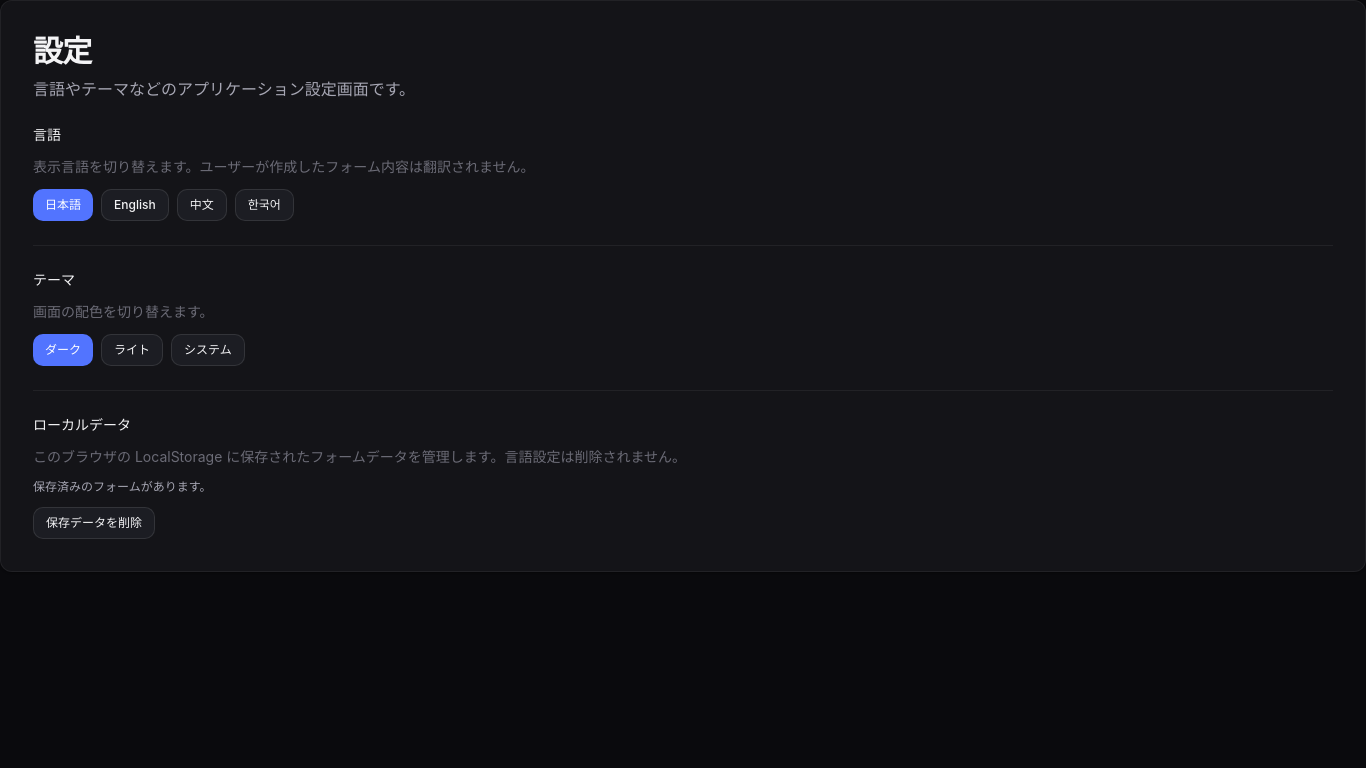
Settings storage controls › clears saved form data after confirmation
Expected: the text "保存済みのフォームがあります。" is shown, x1=33 y1=479 x2=212 y2=494
Click the button "保存データを削除": (94, 523) x1=33 y1=507 x2=155 y2=539
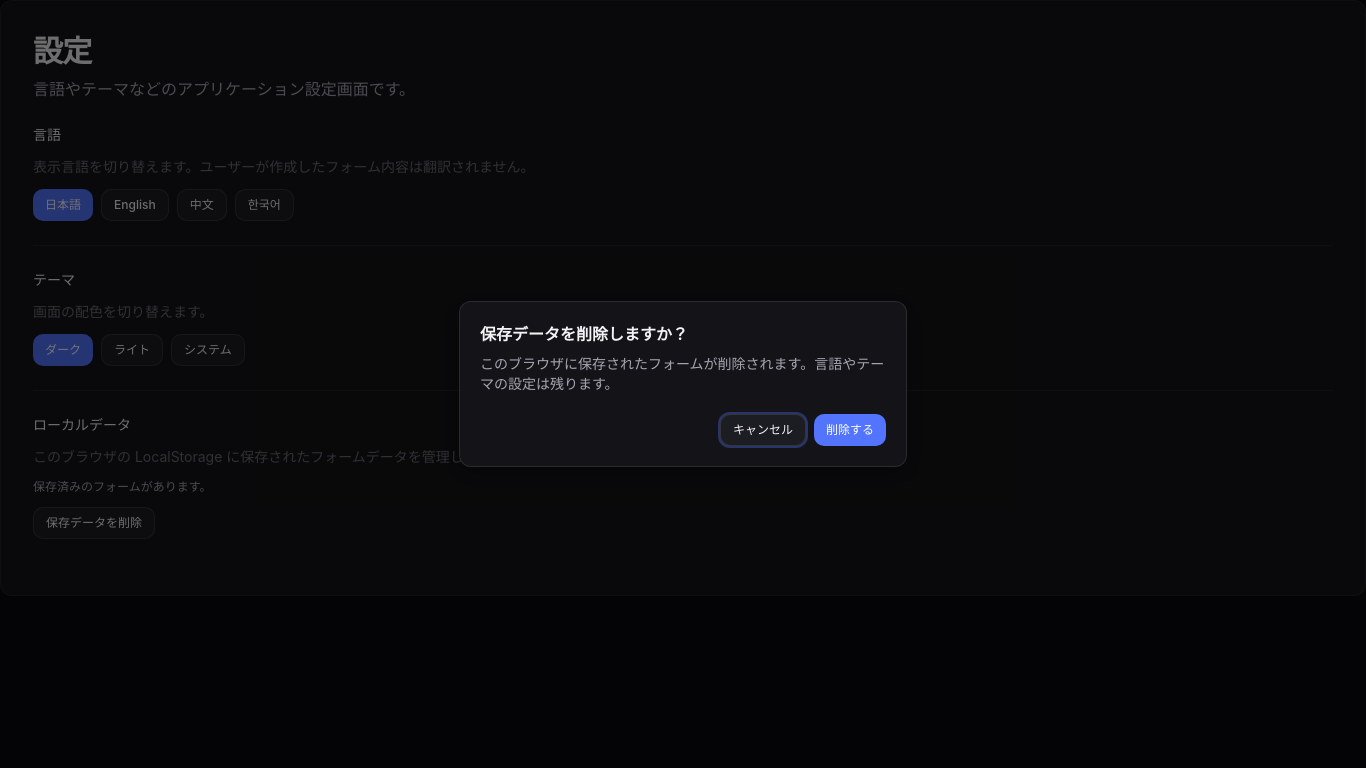
Click the button "削除する": (850, 430) x1=814 y1=414 x2=886 y2=446
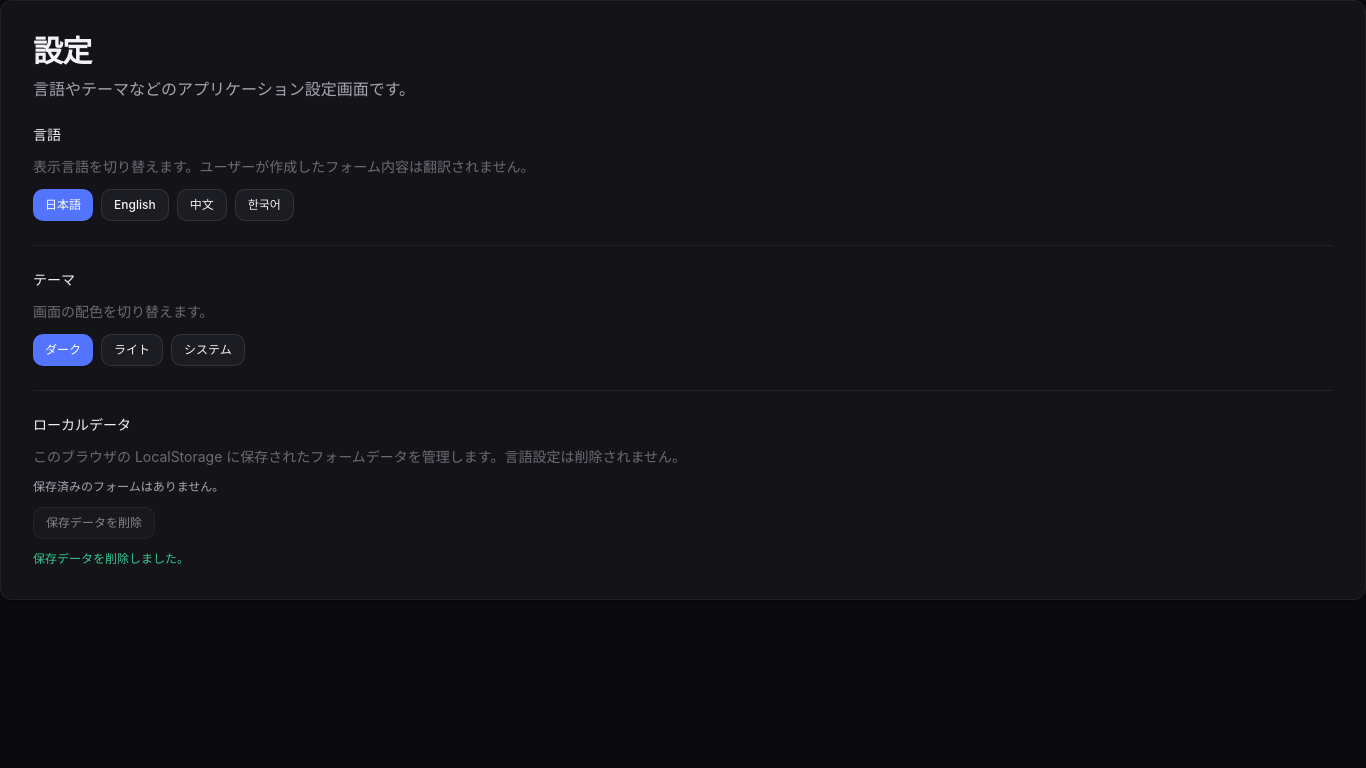
Result: the message reads "保存データを削除しました。" at x1=33 y1=551 x2=189 y2=566
Result: the text "保存済みのフォームはありません。" is shown at x1=33 y1=479 x2=224 y2=494
